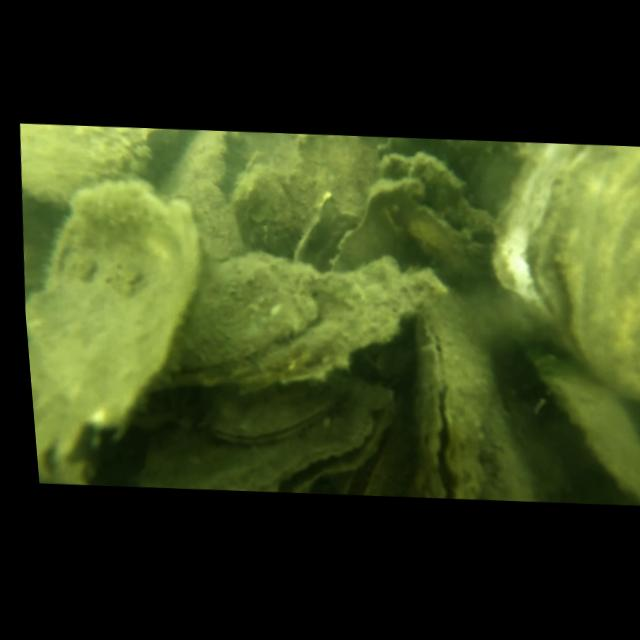Oyster-Closed: (145, 243, 449, 398), (506, 140, 640, 407), (191, 369, 354, 452), (224, 152, 309, 261)
Oyster-Indeterminate: (14, 171, 227, 492), (521, 344, 640, 509), (290, 193, 359, 272)
Oyster-Open: (127, 371, 402, 501), (397, 290, 551, 504), (323, 145, 506, 299)
